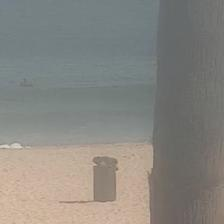surfer: (18, 78, 34, 89)
